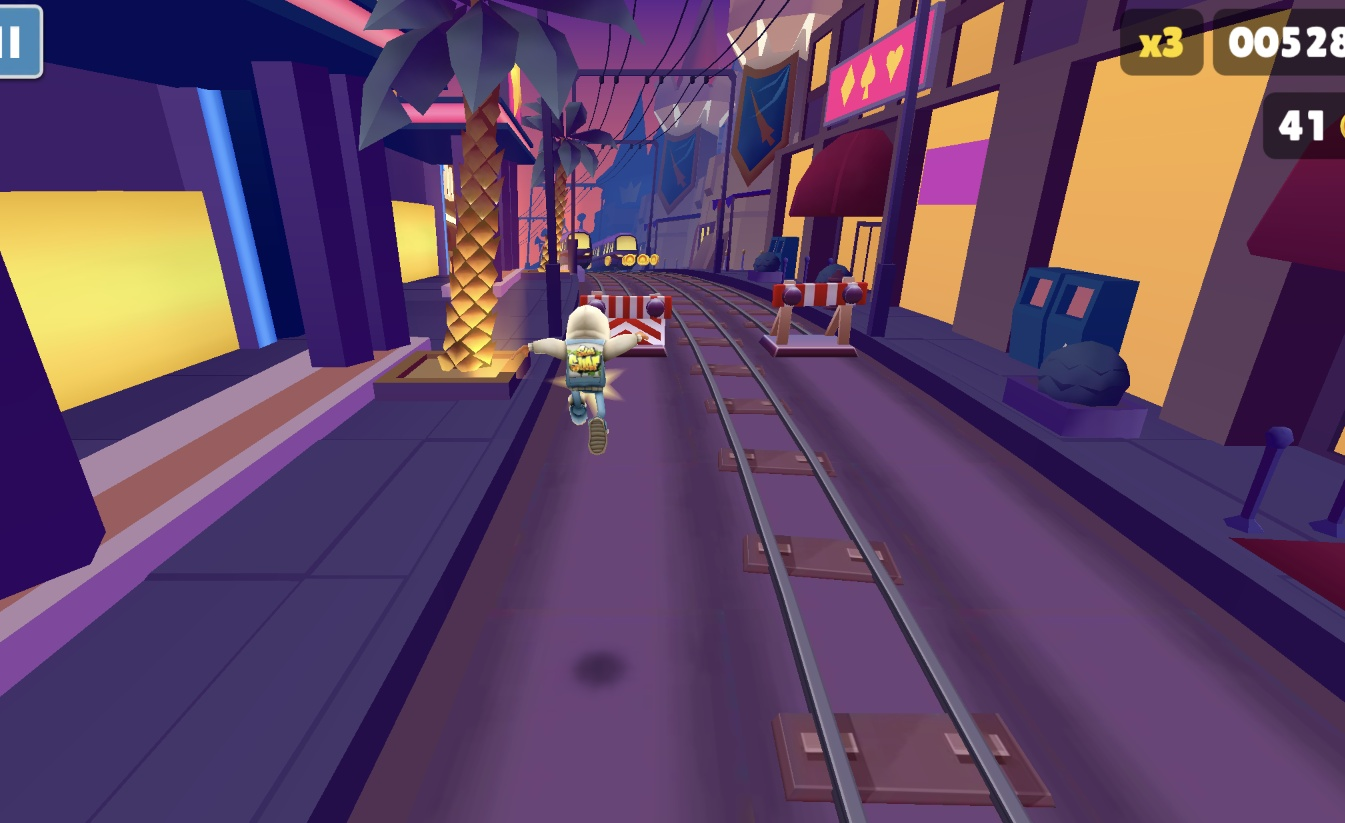ground_barrier: (765, 277, 864, 357), (592, 288, 677, 362)
train: (590, 232, 640, 274), (572, 236, 595, 271)
